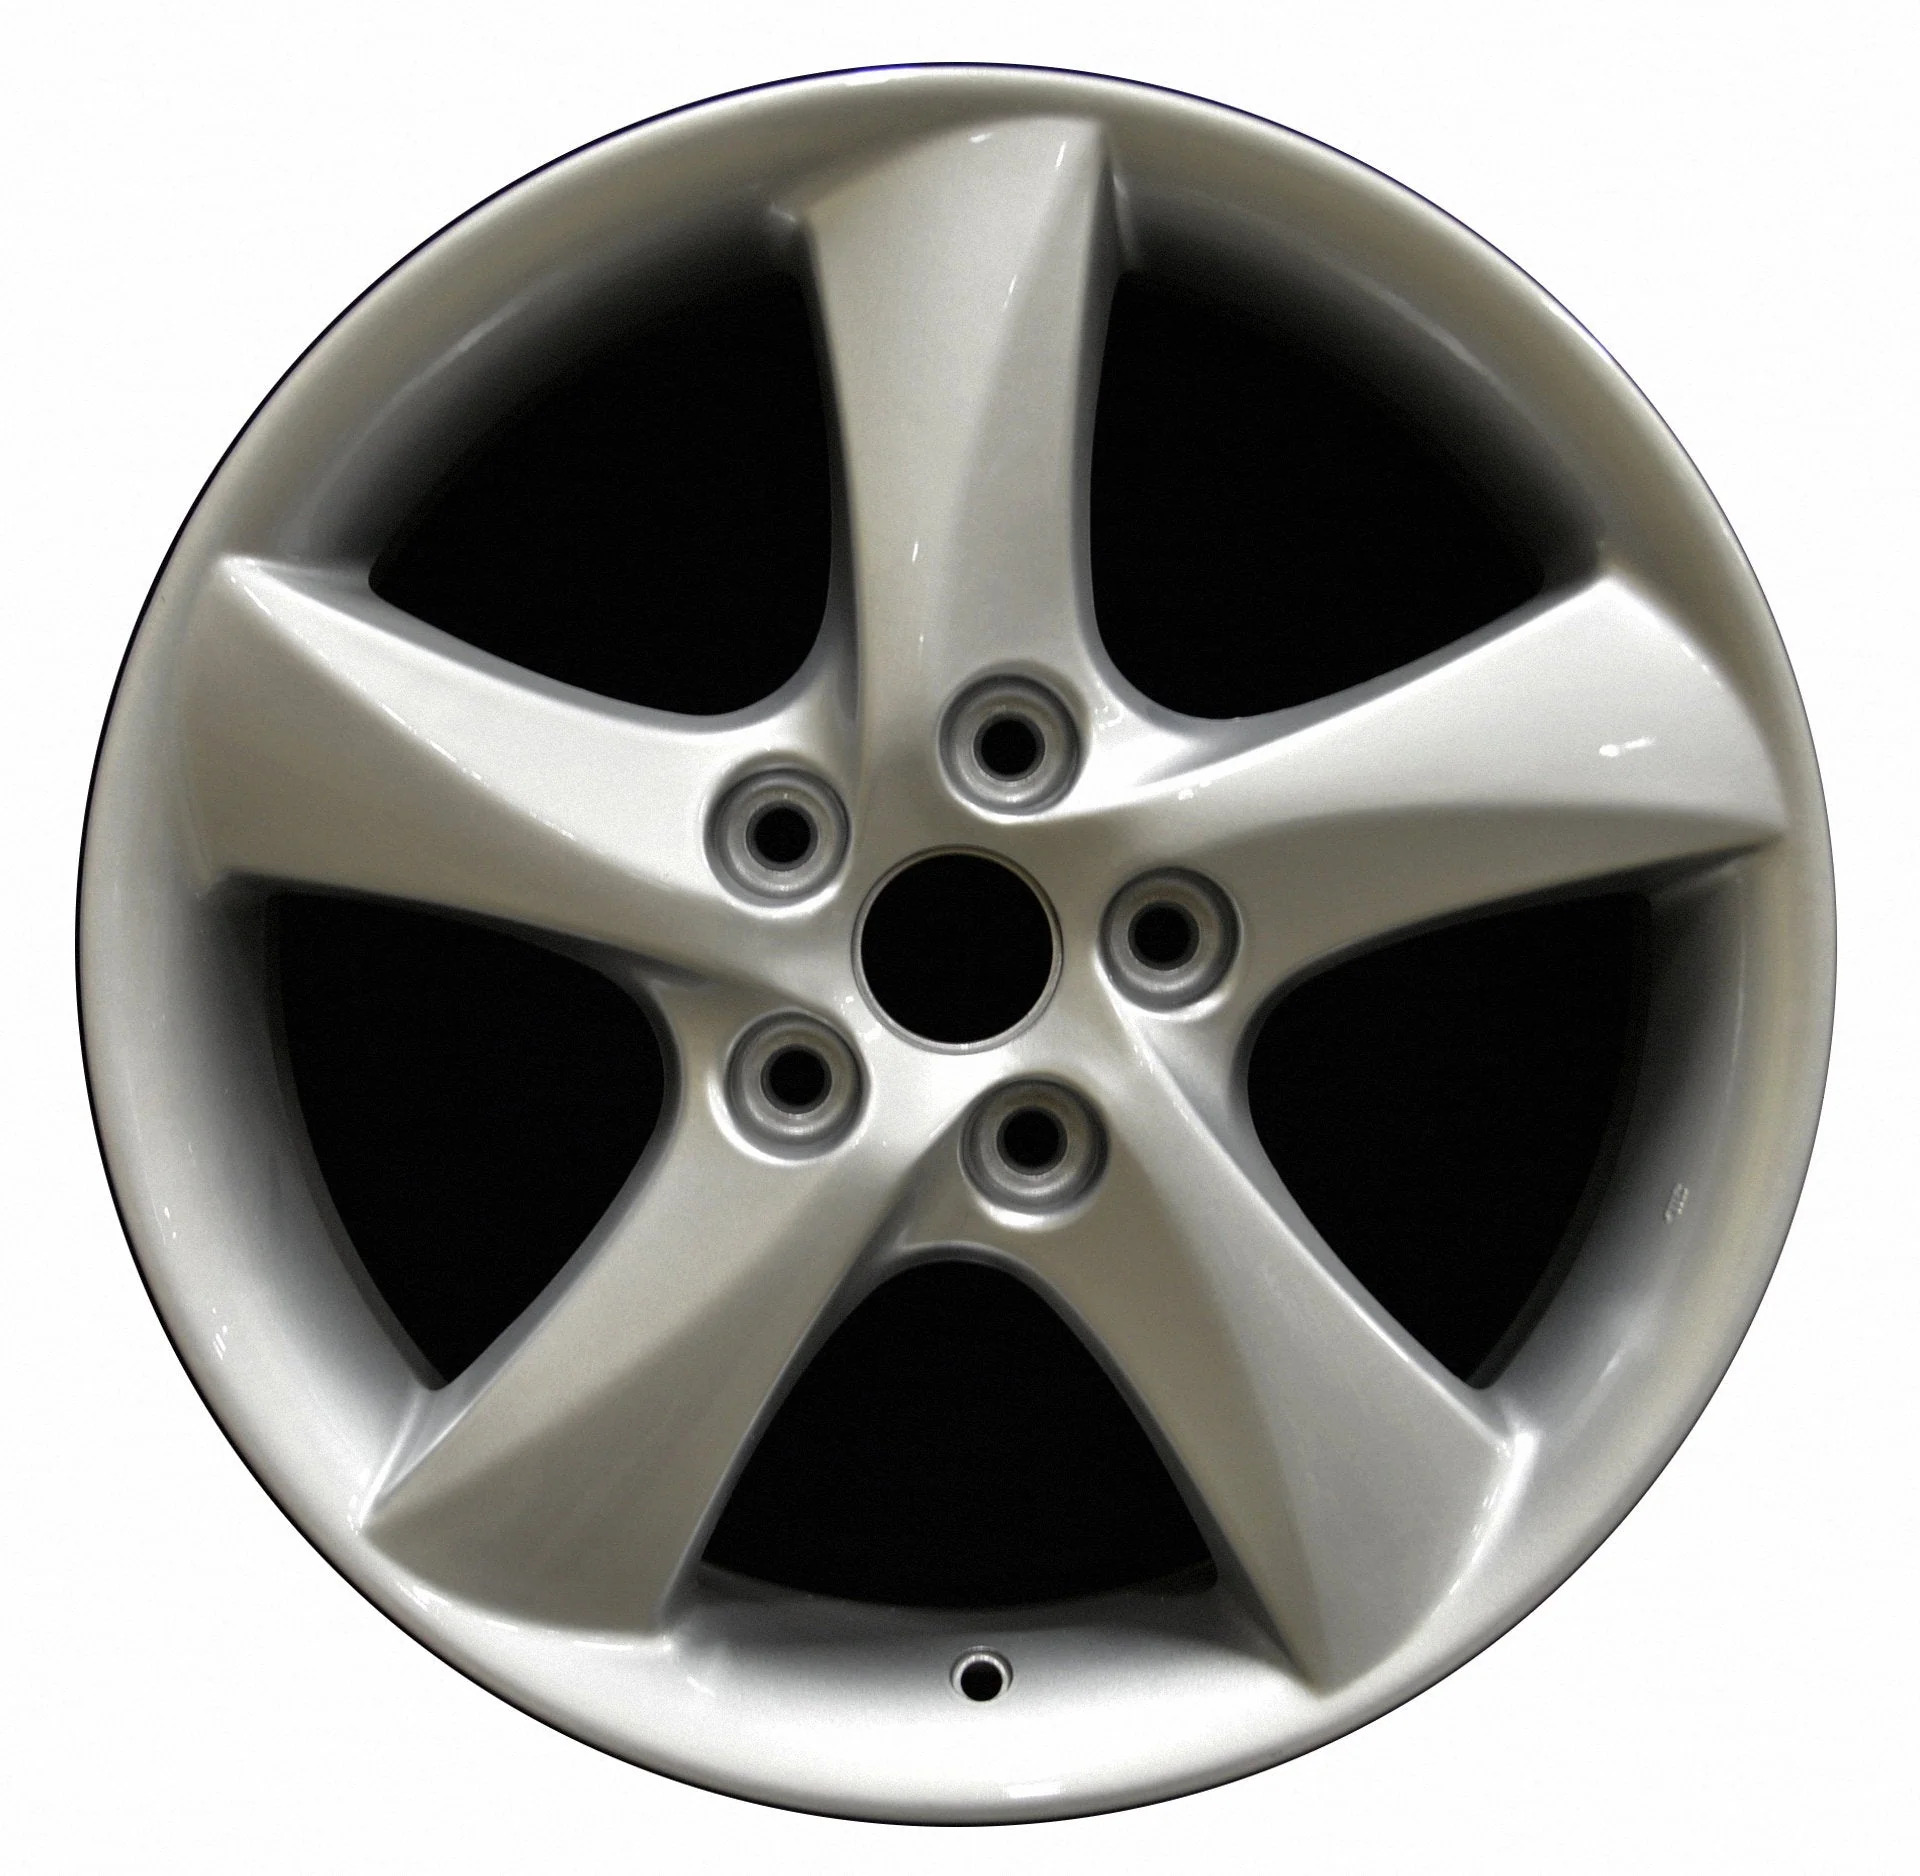m: (708, 984, 890, 1173), (671, 742, 871, 914), (933, 646, 1101, 830), (958, 1058, 1123, 1232), (1091, 856, 1257, 1020)
